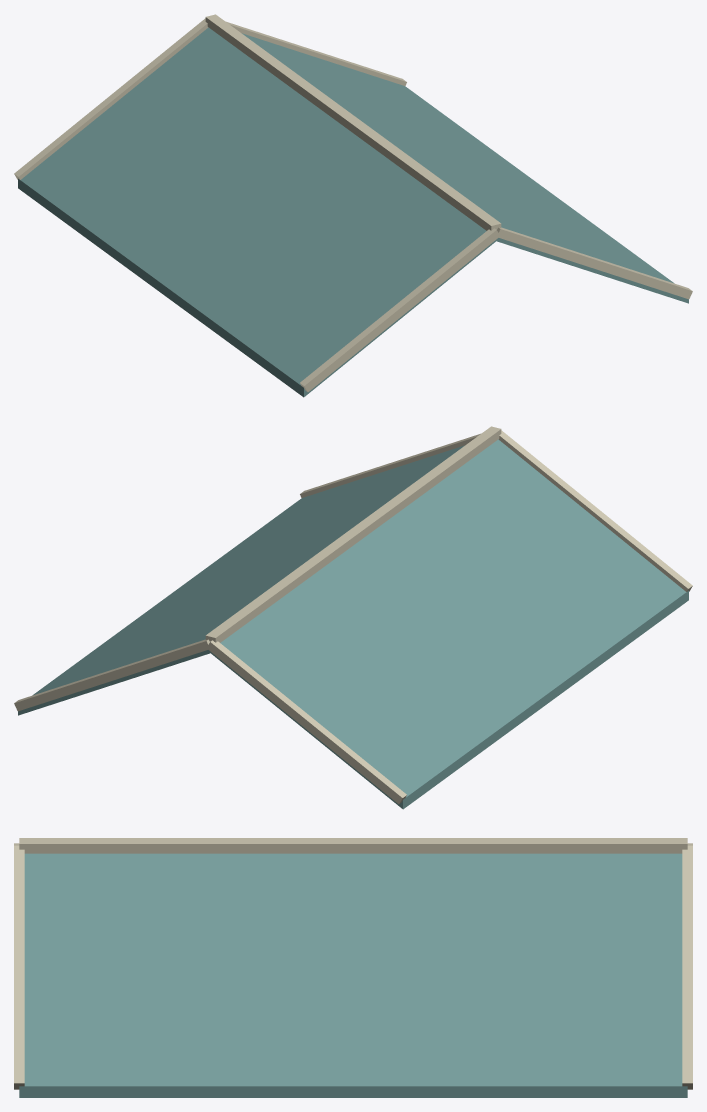
File: Backyard_GreenhouseRoof_Simple.glb
3 renders of one model, top to bottom at view 1: azimuth 30°, elevation 25°; view 2: azimuth 150°, elevation 25°; view 3: azimuth 270°, elevation 25°, orthographic. The views are drawn at different scales.
Parts seen in each view (by area): view 1: Backyard_GreenhouseRoof_Simple; view 2: Backyard_GreenhouseRoof_Simple; view 3: Backyard_GreenhouseRoof_Simple.
Part boxes in pixels (x1=…): Backyard_GreenhouseRoof_Simple: x1=14, y1=14, x2=692, y2=397; Backyard_GreenhouseRoof_Simple: x1=14, y1=426, x2=692, y2=809; Backyard_GreenhouseRoof_Simple: x1=14, y1=838, x2=692, y2=1097.
Size of the model in its own units: 4.95 by 1.53 by 6.4.
